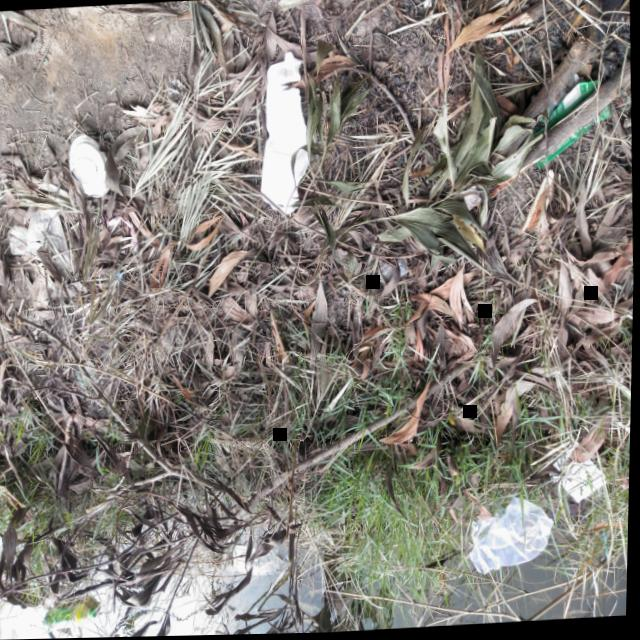Clear plastic bottle: (46, 603, 100, 632)
Foam food container: (261, 52, 310, 215)
Other plastic: (533, 76, 611, 172)
Plastic bottle cap: (113, 271, 124, 285), (93, 608, 100, 618)
Plastic film: (472, 500, 556, 576), (9, 208, 73, 283), (234, 545, 283, 577), (101, 216, 140, 255)
Plastic lid: (69, 135, 110, 199)
Plastic straw: (600, 490, 610, 560)
Unlabeled litter: (551, 445, 609, 506), (461, 188, 482, 213)
